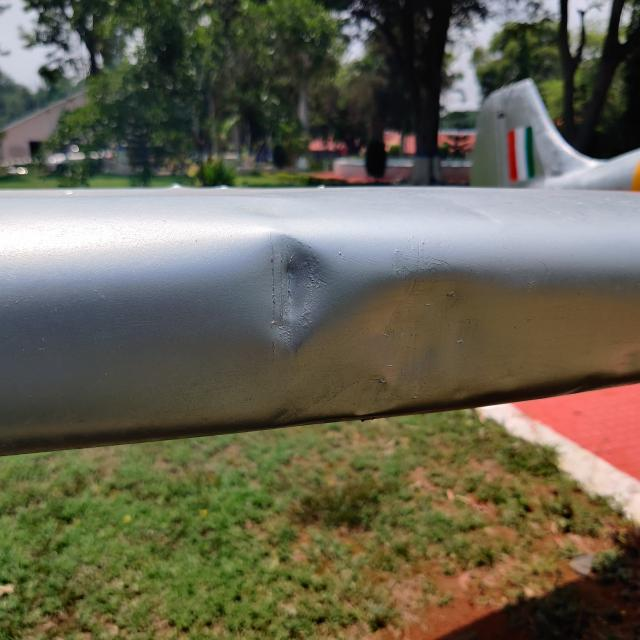dent: (220, 218, 352, 376)
